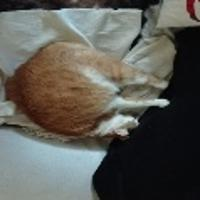asleep: (5, 42, 169, 141)
